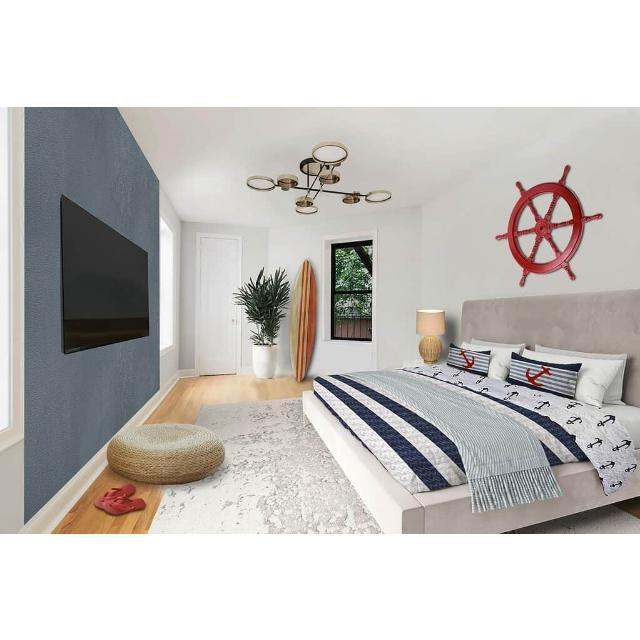bed: (295, 287, 639, 533)
lamp: (414, 305, 447, 360)
pillow: (505, 352, 583, 398), (576, 358, 623, 406), (442, 344, 493, 377)
